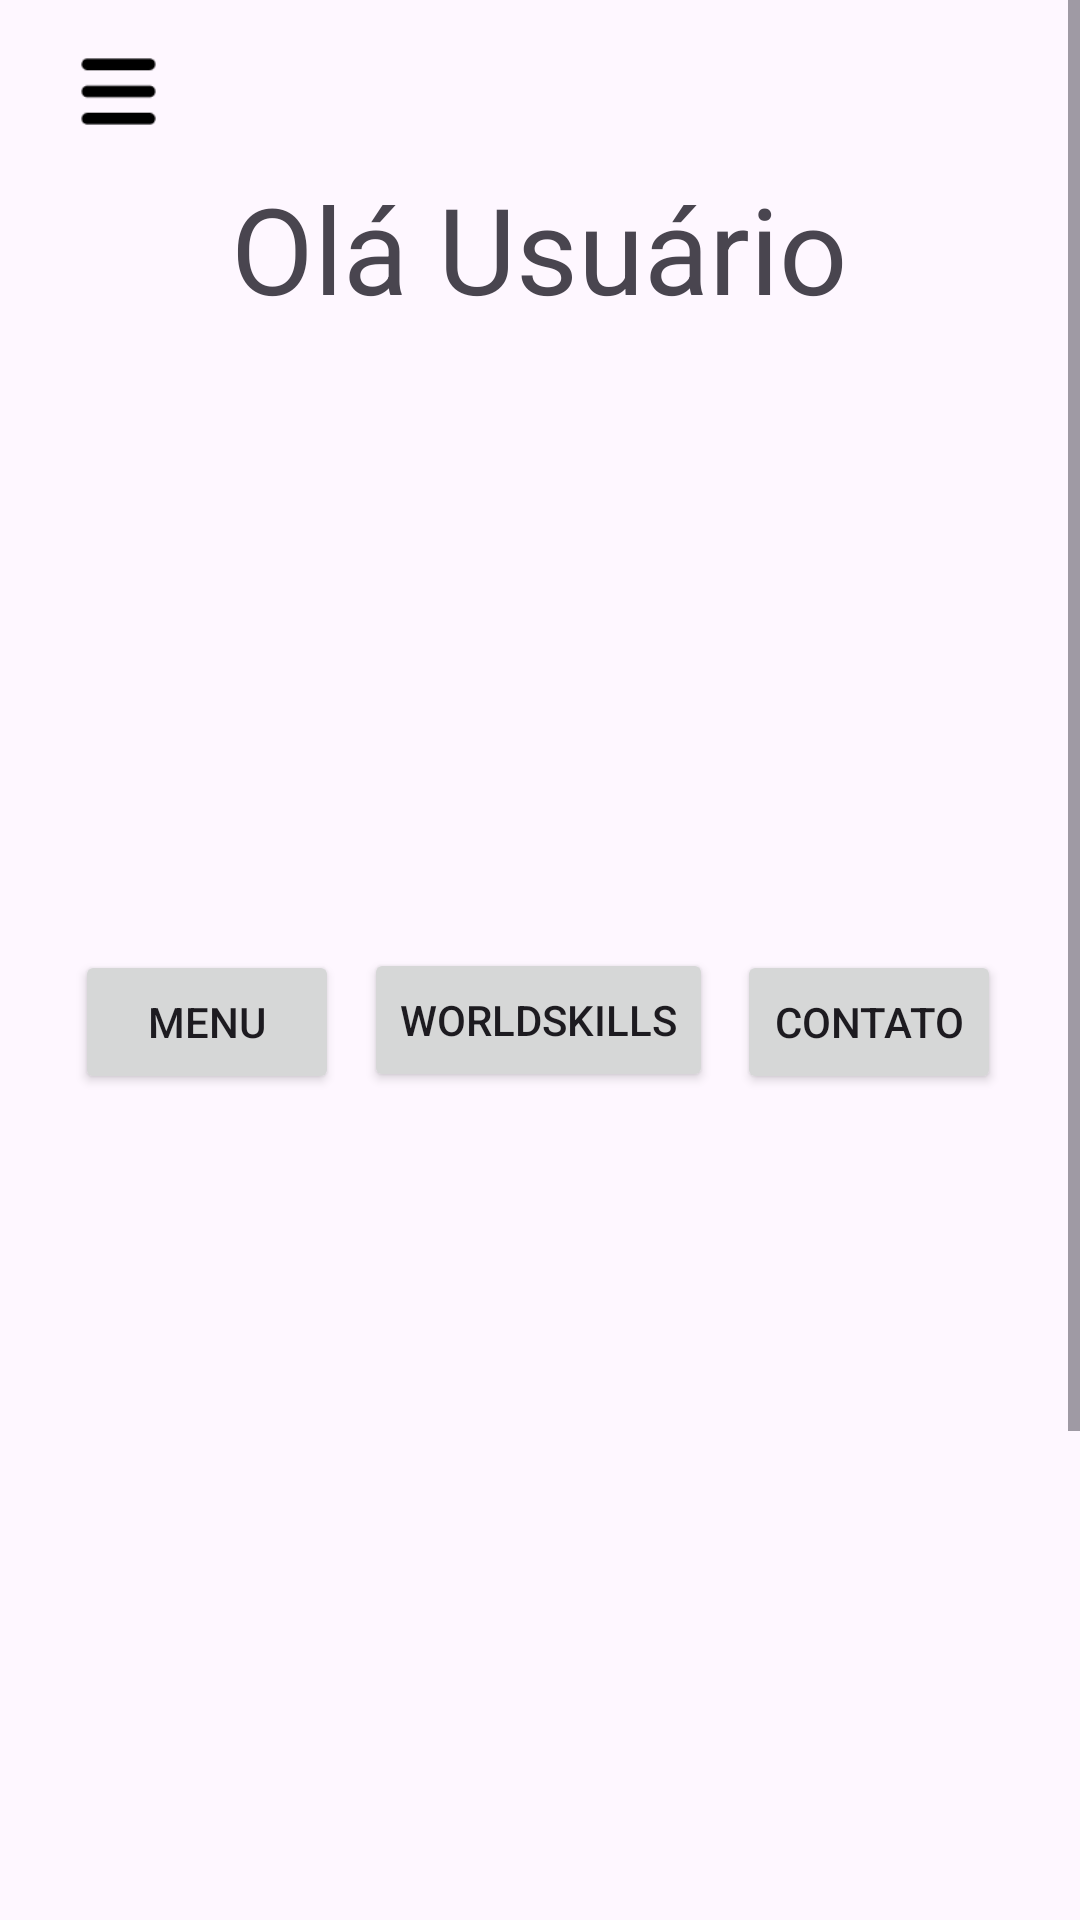

Screen size 1080 x 1920. Icon name, then its center in pixels as point (x, y):
menu: point (118, 91)
